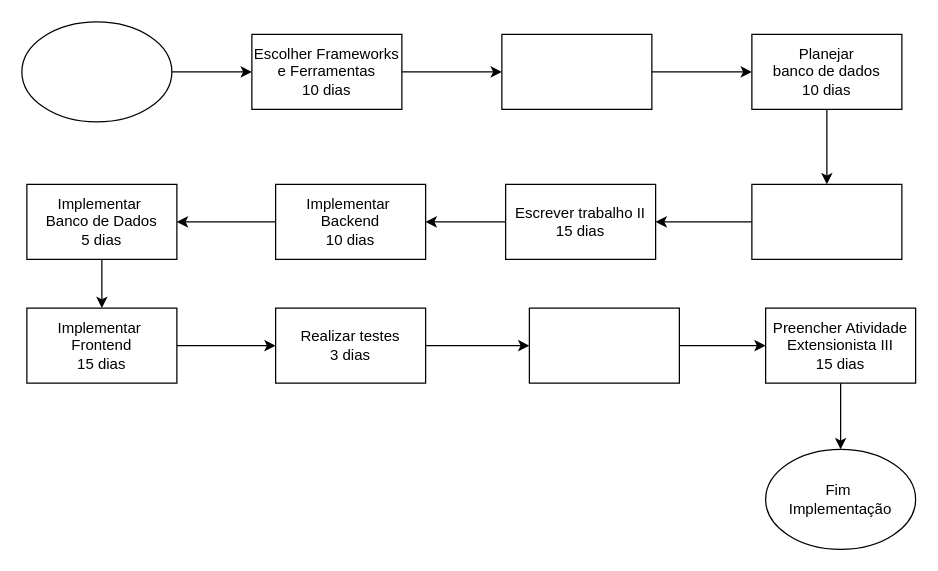
Image size: 938x571. Some labels were removed from this diagram. The shapes that lost their labels are listed below. From the top down, each one's centre as x and y in pixels, then its label:
At (x=96, y=71): "Inicio Implementação".
At (x=576, y=71): "Criar design 10 dias".
At (x=826, y=221): "Planejar end points 10 dias".
At (x=603, y=345): "Fazer Deploy 20 dias".
